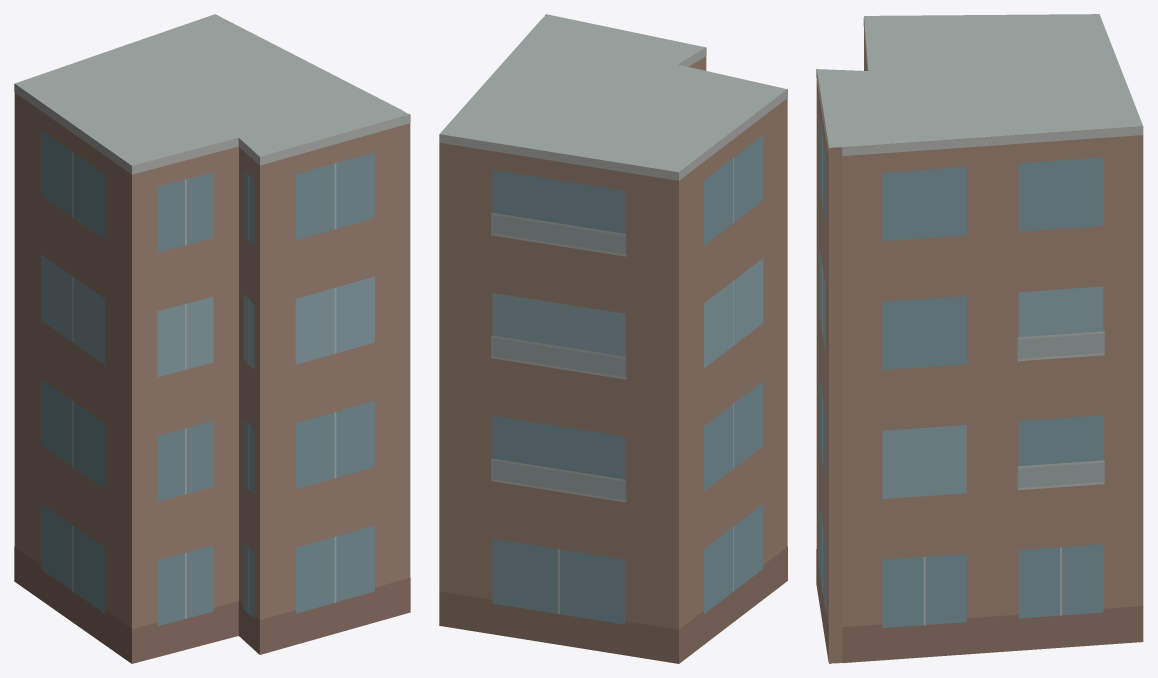
Rendered from survey-upis-32458241.glb.
3 renders of one model, left to right at view 1: azimuth 30°, elevation 25°; view 2: azimuth 150°, elevation 25°; view 3: azimuth 270°, elevation 25°, orthographic. The views are drawn at different scales.
Visible parts, largest first — view 1: survey-upis-32458241.tmp; view 2: survey-upis-32458241.tmp; view 3: survey-upis-32458241.tmp.
Part boxes in pixels (x1,y1,x2,y2): survey-upis-32458241.tmp: (14,14,410,663); survey-upis-32458241.tmp: (439,14,787,663); survey-upis-32458241.tmp: (816,14,1143,663).
Size of the model in its own units: 7.81 by 14 by 8.04.
